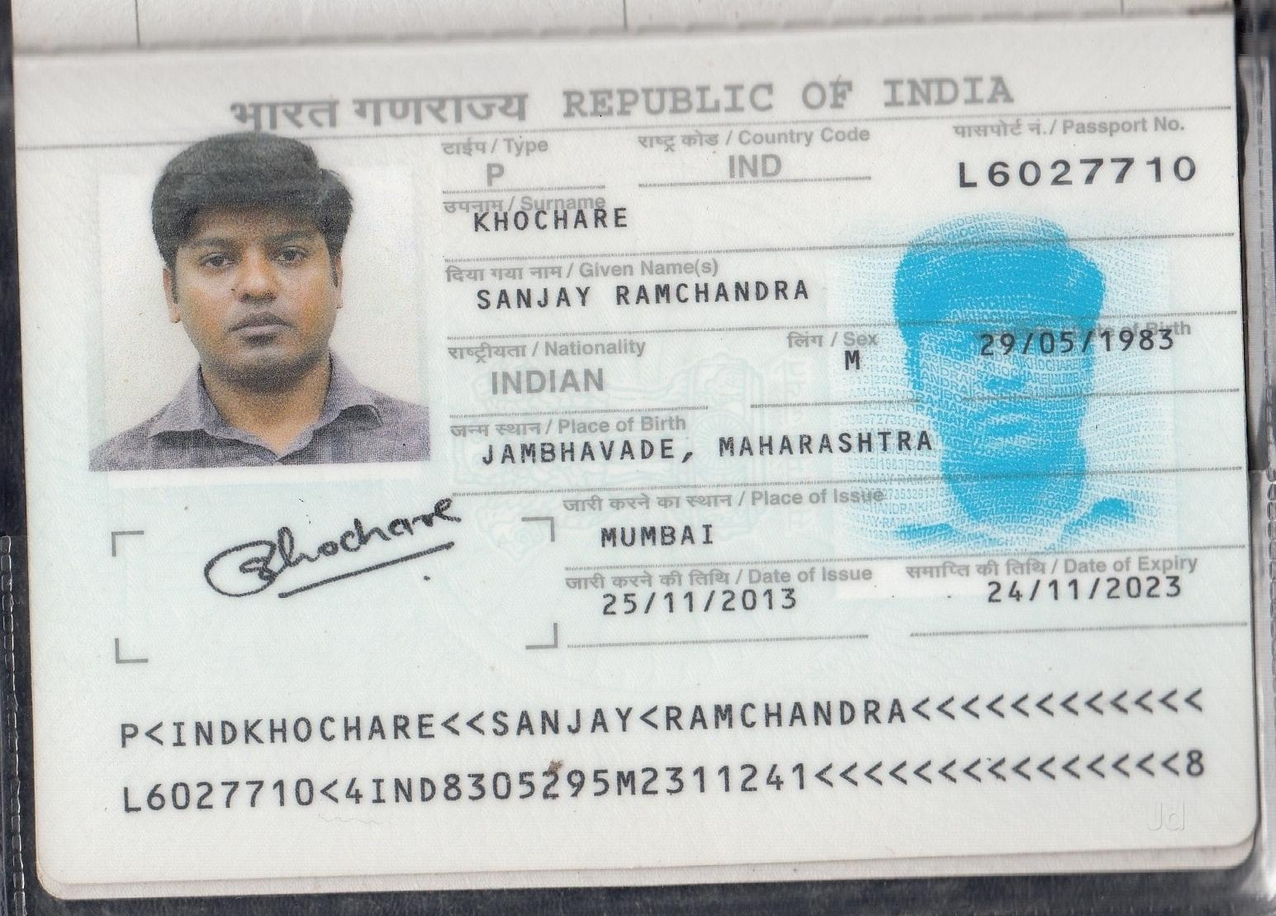DOB: (973, 319, 1179, 365)
Surname: (459, 203, 651, 236)
country_code: (719, 145, 798, 189)
date_of_expiry: (968, 575, 1192, 615)
date_of_issue: (578, 584, 817, 630)
details: (81, 686, 1232, 819)
name: (454, 276, 851, 312)
nationality: (479, 357, 630, 401)
passport_no: (943, 149, 1221, 203)
photo: (99, 135, 425, 466)
place_of_birth: (458, 416, 953, 476)
place_of_issue: (585, 512, 735, 562)
sex: (828, 339, 870, 384)
sign: (178, 489, 487, 618)
type: (462, 154, 521, 197)
